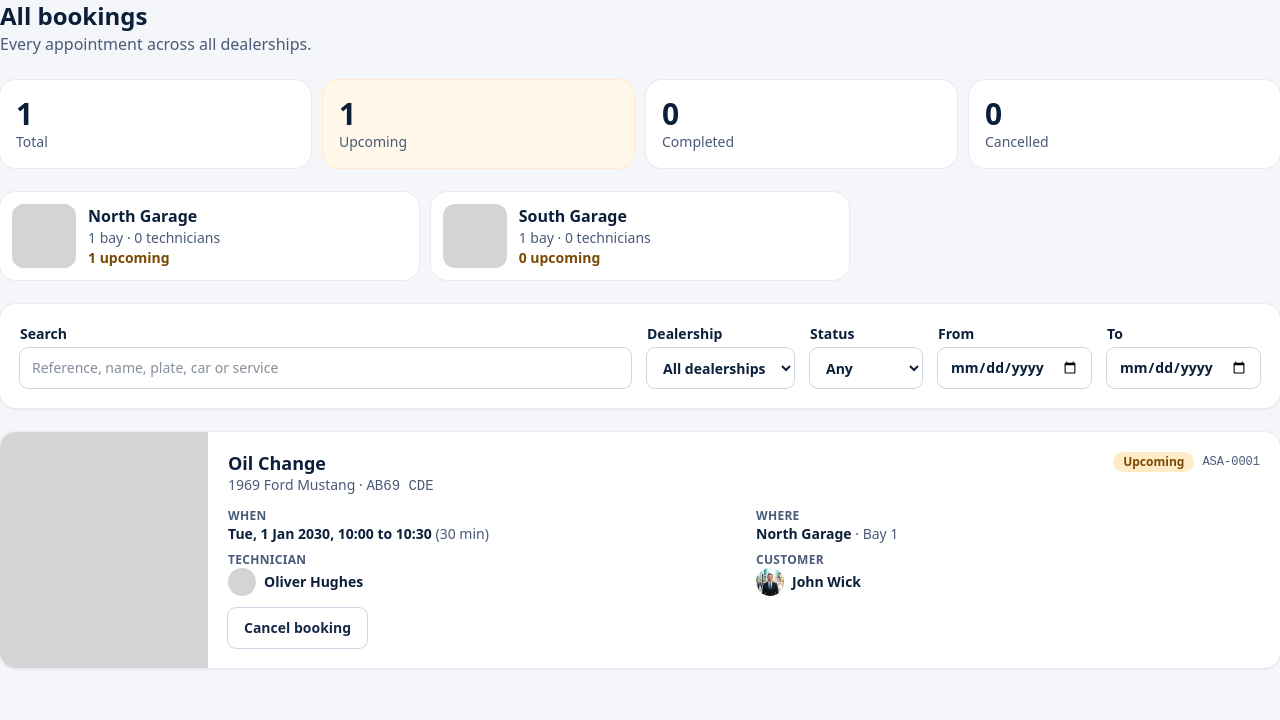
it: staff overview › finds a booking by customer name, and shows an empty state for no match
Expected: the heading "Oil Change" is shown, [228,451,326,475]
In the search field: (326, 368) [20,348,631,388], type "wick"
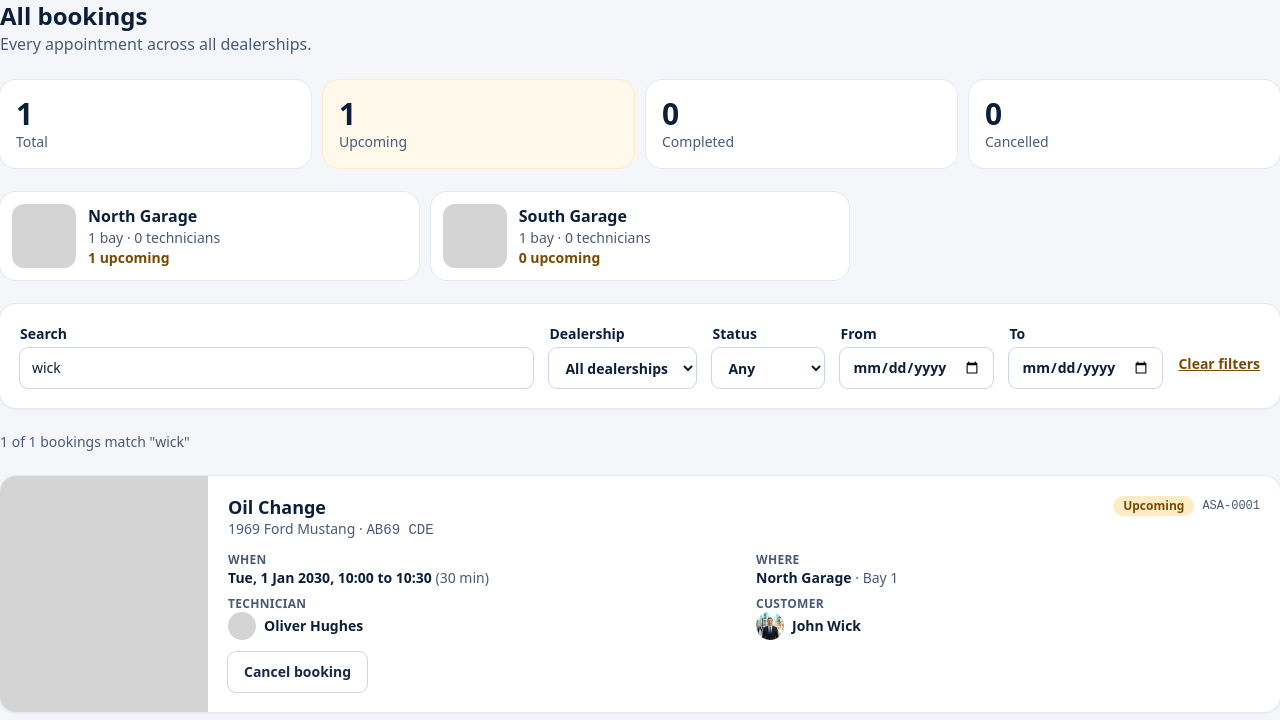
Expected: the heading "Oil Change" is shown, [228,495,326,519]
Replace the text in the search field with "nobody": (277, 368) [20,348,534,388]
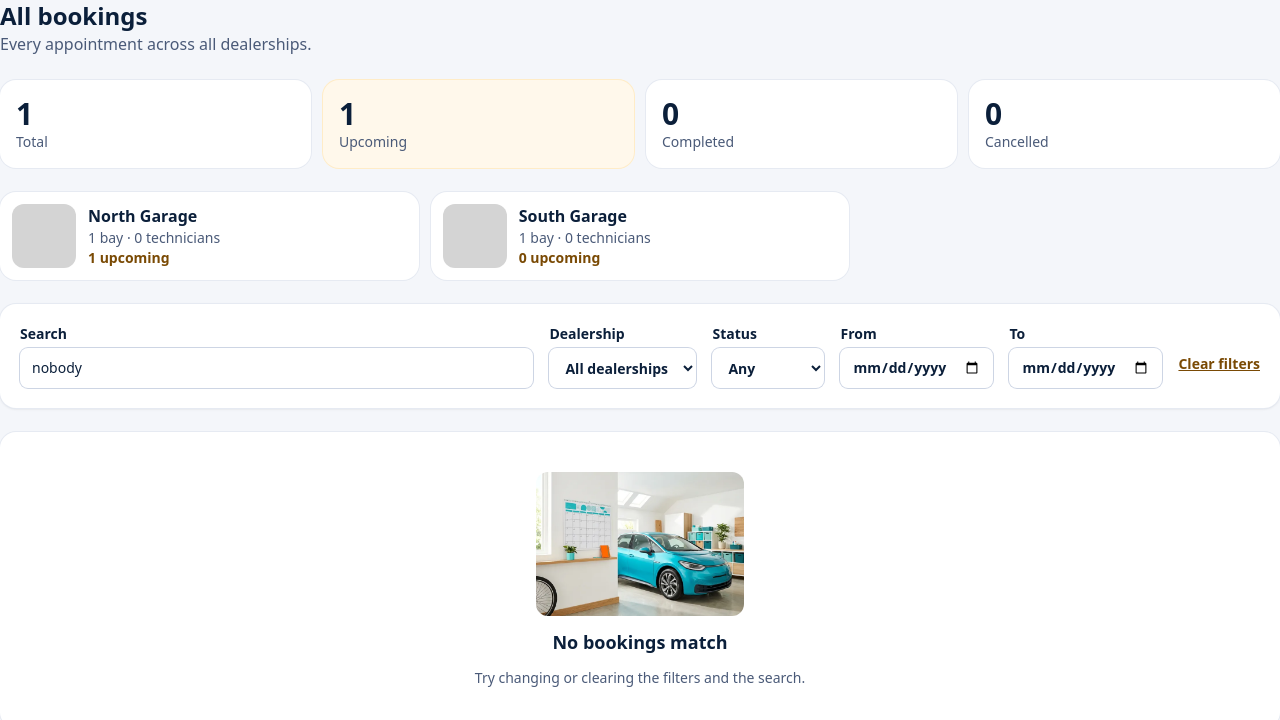
Expected: the heading "No bookings match" is shown, [552,628,728,656]
